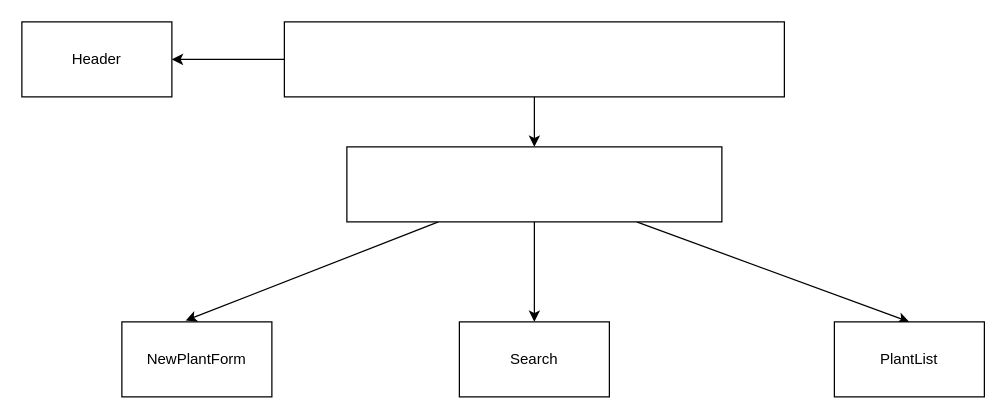
The diagram is 1006 pixels wide and 419 high, and some of its shapes have lost their labels. The box of each missing label's shape, as (x1, y1, x2, y2) in pixels:
App: (283, 21, 784, 97)
PlantPage: (346, 146, 722, 222)
